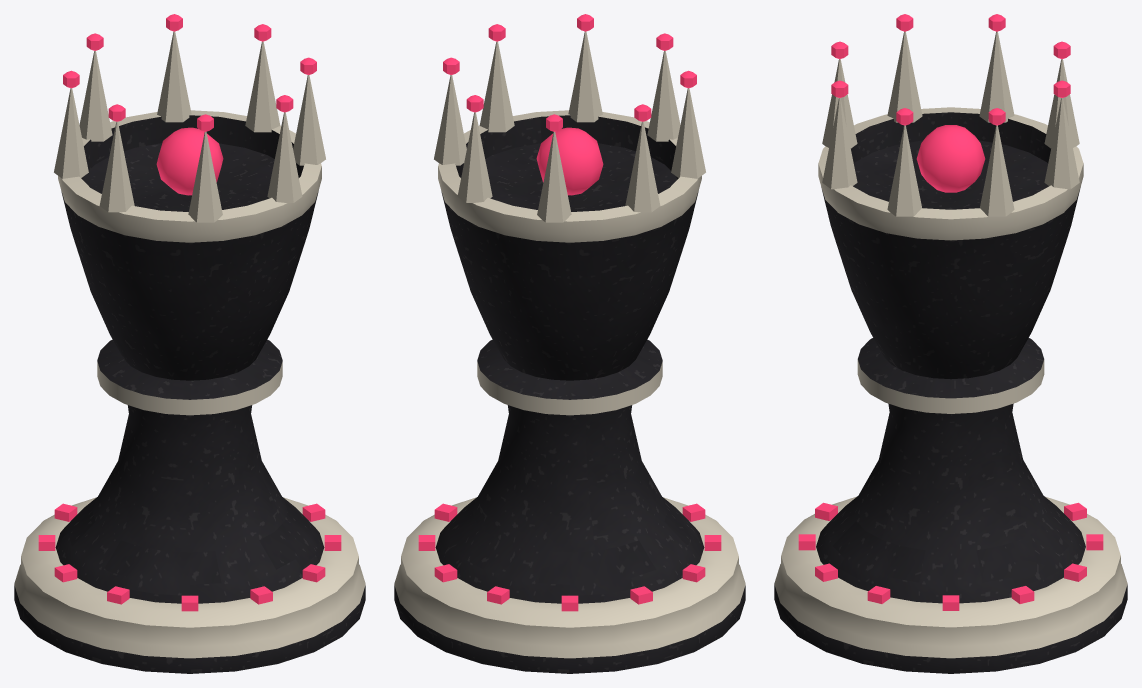
Rendered from queen_dark.glb.
3 views of the same model, side by side, from view 1: azimuth 30°, elevation 25°; view 2: azimuth 150°, elevation 25°; view 3: azimuth 270°, elevation 25° (orthographic).
Visible parts, largest first — view 1: Piece_Queen_Dark_Mesh; view 2: Piece_Queen_Dark_Mesh; view 3: Piece_Queen_Dark_Mesh.
Part boxes in pixels (x1,y1,x2,y2): Piece_Queen_Dark_Mesh: (14, 14, 365, 673); Piece_Queen_Dark_Mesh: (394, 14, 745, 673); Piece_Queen_Dark_Mesh: (774, 14, 1127, 673).
Size of the model in its own units: 0.72 by 1.21 by 0.72.
3 materials, 1 textured.
